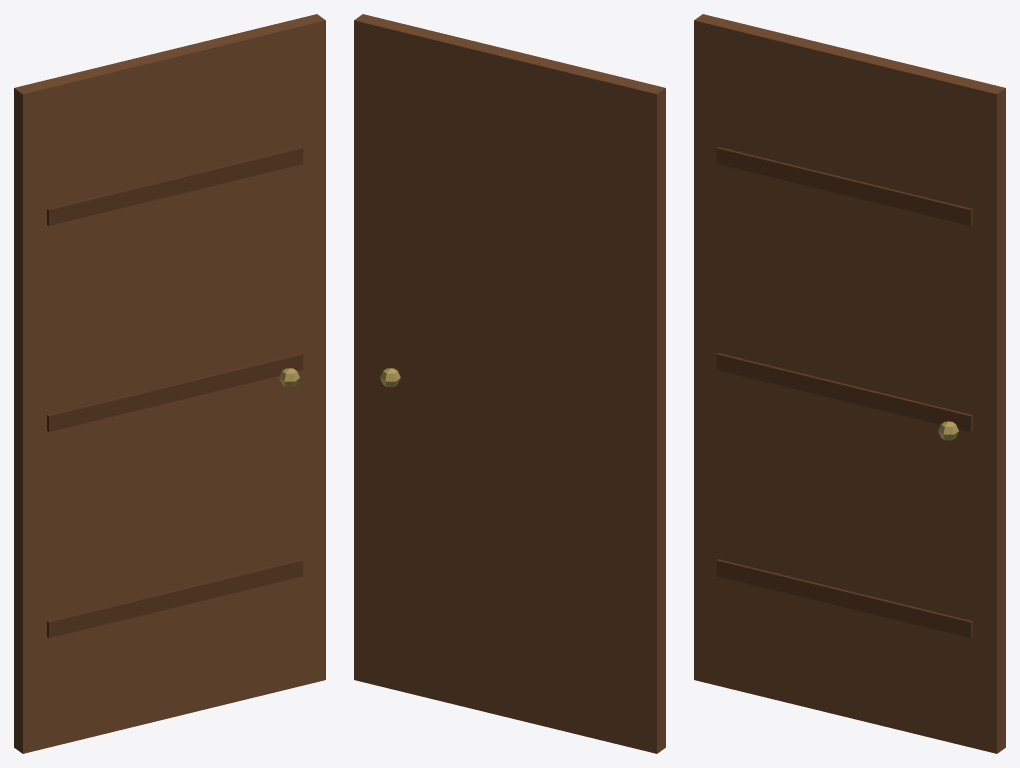
Rendered from KG_Door.obj.
The picture shows the model from 3 angles, left to right: view 1: azimuth 30°, elevation 25°; view 2: azimuth 150°, elevation 25°; view 3: azimuth 330°, elevation 25°; orthographic projection.
Visible parts, largest first — view 1: KG_Door; view 2: KG_Door; view 3: KG_Door.
Part boxes in pixels (x1,y1,x2,y2): KG_Door: (14,14,325,753); KG_Door: (354,14,665,753); KG_Door: (694,14,1005,753).
Bounding box in the file's own units: 1 × 2.08 × 0.18.
